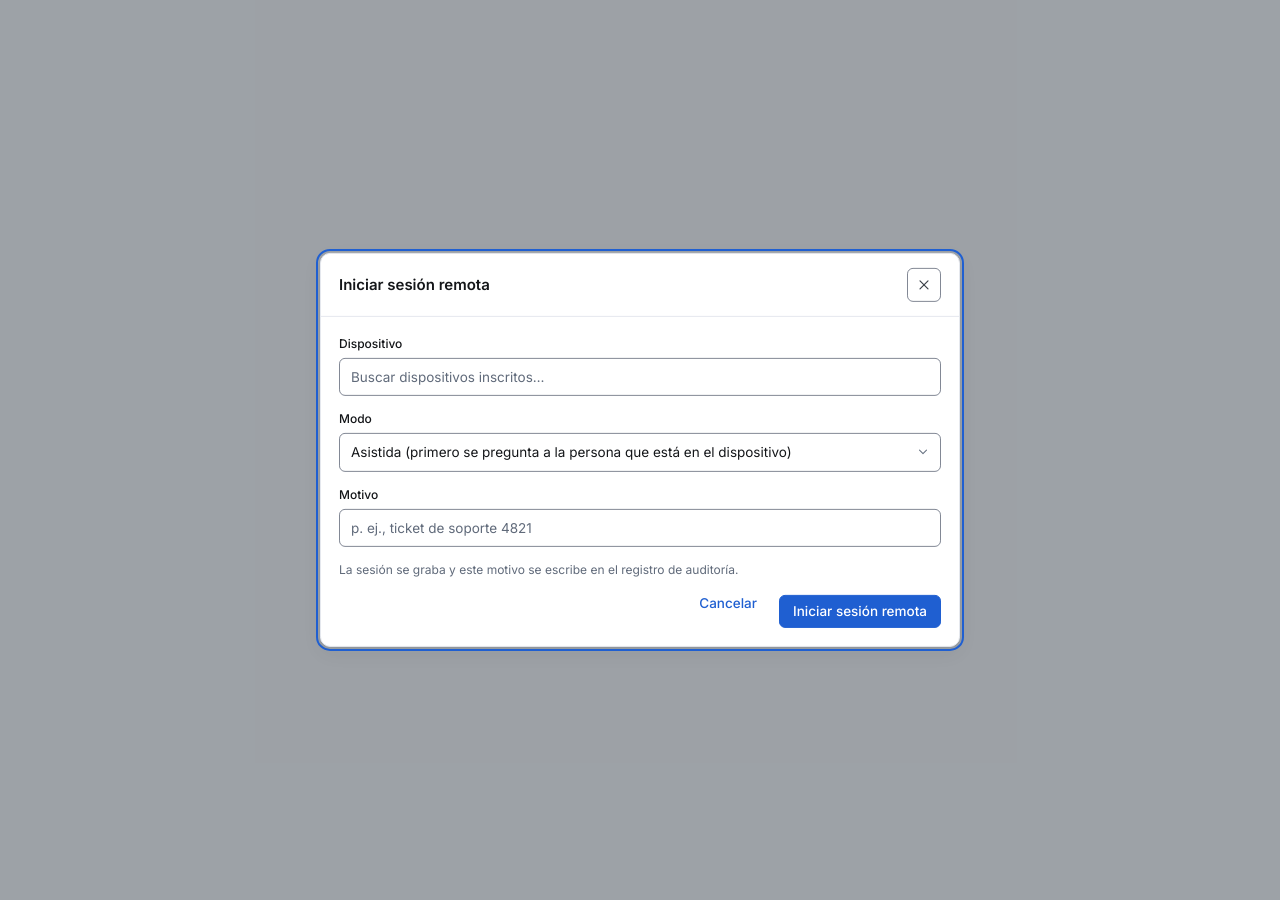
Test: the Start session dialog, in Spanish › says what each device can answer in the picker
What coordinates should you click on to do the following:
click the dropdown labelled "Dispositivo"
I would click on:
 (640, 377)
Its box is [339,358,941,396].
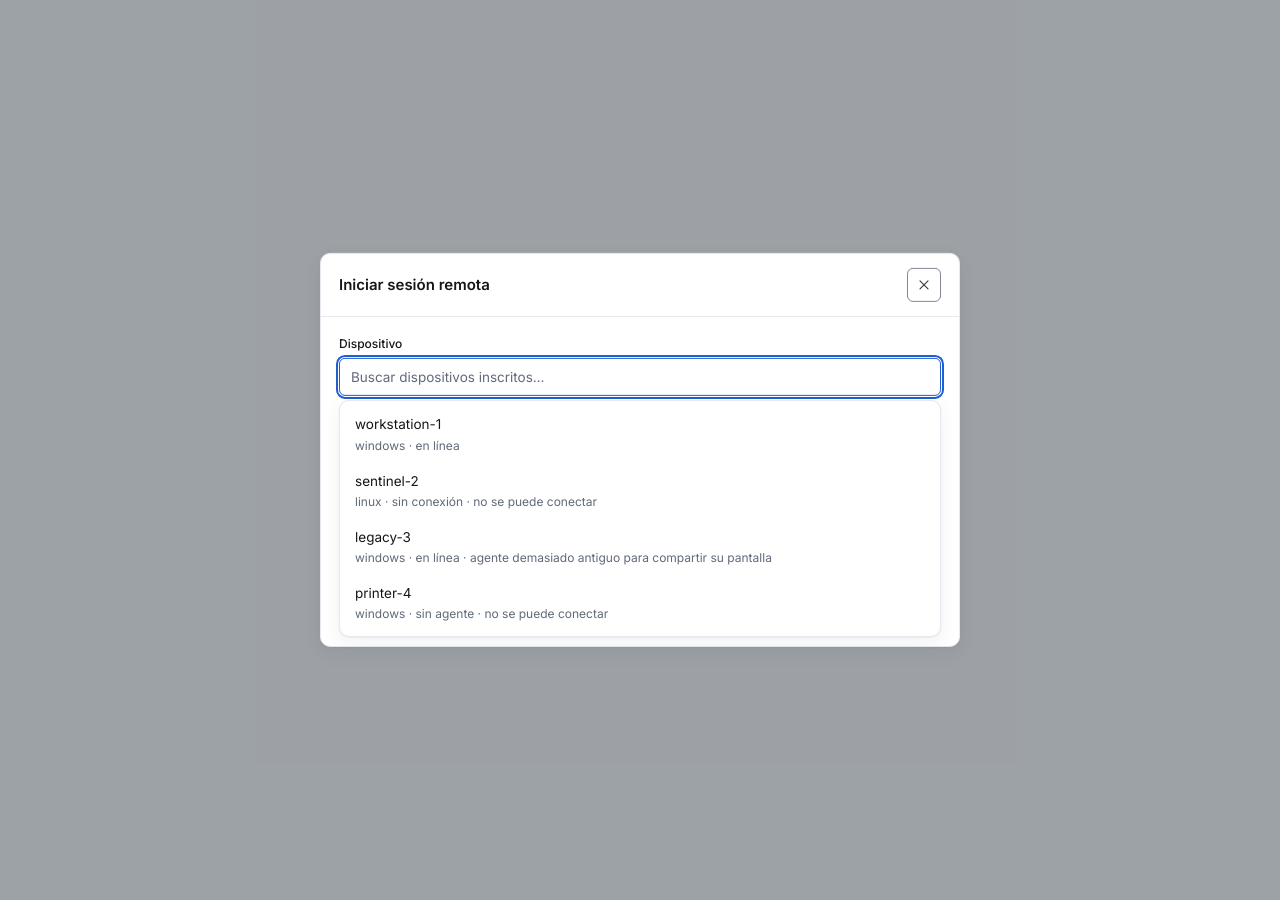
Expected: the option "workstation-1 windows · en línea" is shown, [345,406,935,462]
Expected: the option "sentinel-2 linux · sin conexión · no se puede conectar" is shown, [345,462,935,519]
Expected: the option "legacy-3" shows "agente demasiado antiguo para compartir su pantalla", [345,519,935,575]
